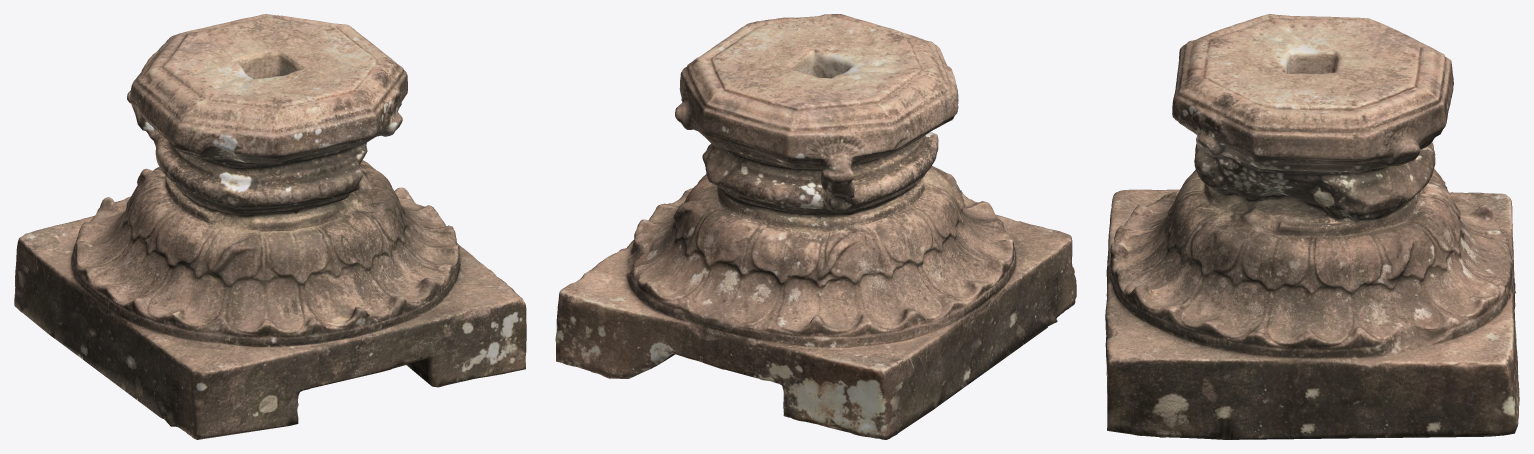
File: 40_MysonSanctuaryB_Detru_final.glb
3 renders of one model, left to right at view 1: azimuth 30°, elevation 25°; view 2: azimuth 150°, elevation 25°; view 3: azimuth 270°, elevation 25°, orthographic. The views are drawn at different scales.
Size of the model in its own units: 1.01 by 0.7853 by 0.9968.
1 material, 1 textured.
